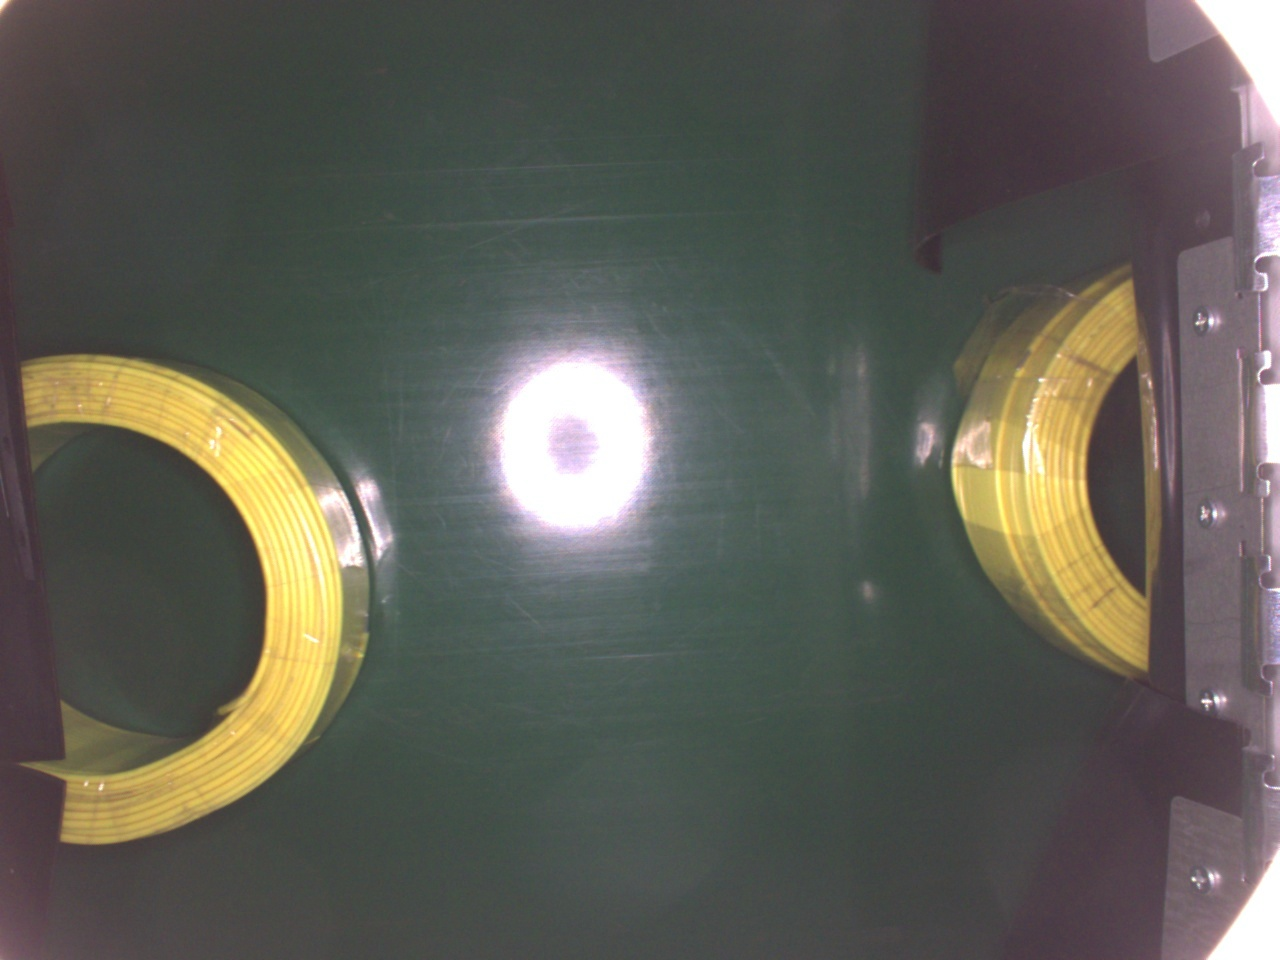yellow: (17, 345, 372, 849), (949, 254, 1151, 685)
